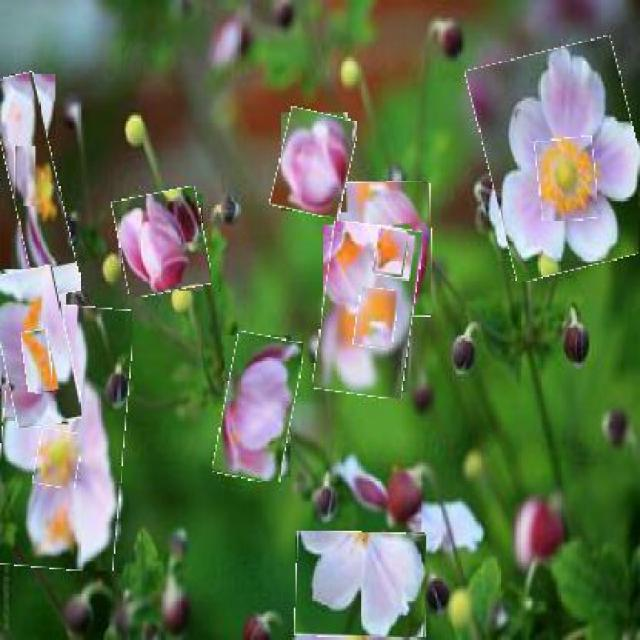Flower: (477, 43, 638, 277), (0, 302, 129, 571), (318, 222, 418, 398), (0, 73, 71, 299), (295, 532, 427, 638), (338, 181, 433, 318), (0, 266, 77, 428), (219, 333, 299, 481), (116, 191, 210, 295), (275, 110, 355, 216), (536, 137, 598, 221), (35, 429, 80, 488), (355, 288, 398, 349), (22, 330, 53, 395), (374, 229, 408, 278), (14, 146, 37, 208)
